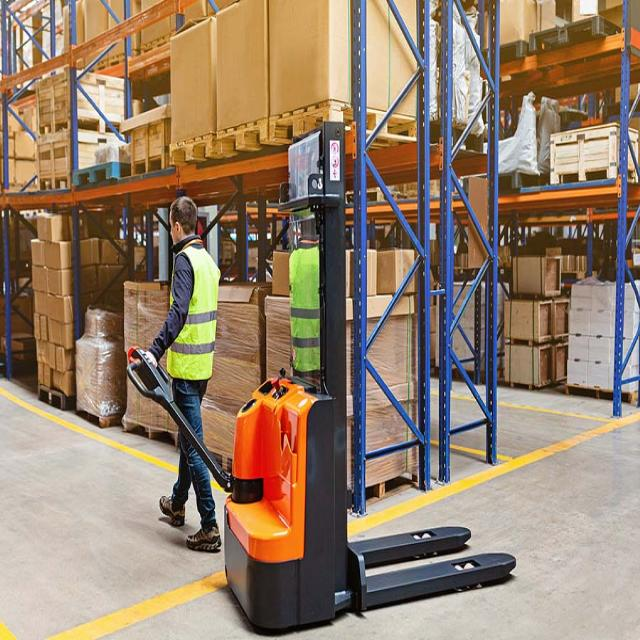Person: (144, 196, 222, 553)
